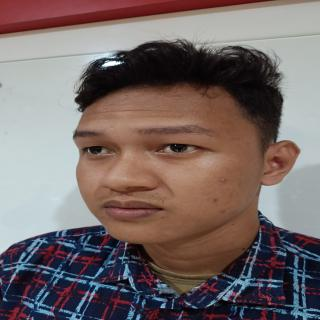Takut: (63, 80, 261, 251)
